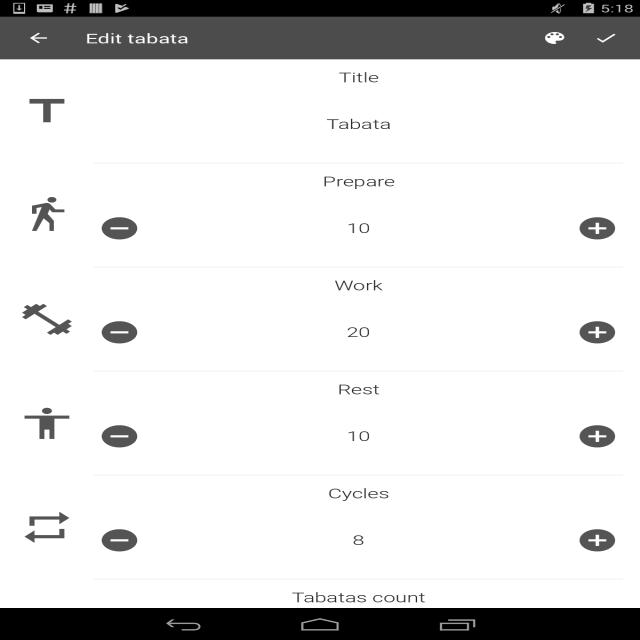EditText: (94, 86, 623, 163), (162, 190, 555, 267), (162, 294, 555, 371), (162, 398, 555, 475), (162, 502, 555, 579), (162, 605, 554, 640)
ImageButton: (9, 17, 68, 59), (94, 212, 145, 245), (572, 212, 623, 245), (94, 316, 145, 348), (572, 316, 623, 348), (94, 420, 145, 452), (572, 420, 623, 452), (94, 524, 145, 556), (572, 524, 623, 556)
ImageView: (0, 82, 77, 141), (0, 186, 77, 245), (0, 290, 77, 349), (0, 394, 77, 453), (0, 498, 77, 557), (0, 602, 77, 640)
TextView: (94, 70, 623, 86), (94, 174, 623, 190), (94, 278, 623, 294), (94, 382, 623, 398), (94, 486, 623, 502), (94, 590, 623, 606), (85, 29, 189, 47), (580, 22, 632, 54), (529, 22, 580, 54)
